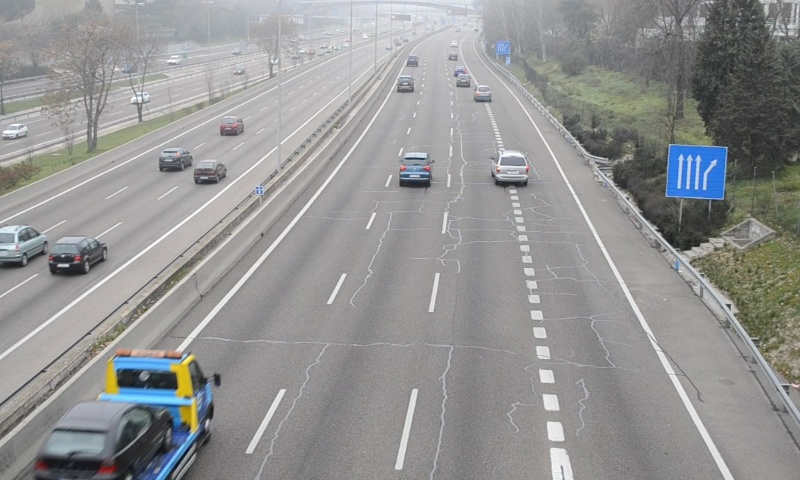car: (491, 150, 529, 184), (398, 153, 432, 186), (396, 74, 414, 94), (474, 84, 492, 102)
small-truck: (27, 348, 216, 480)
